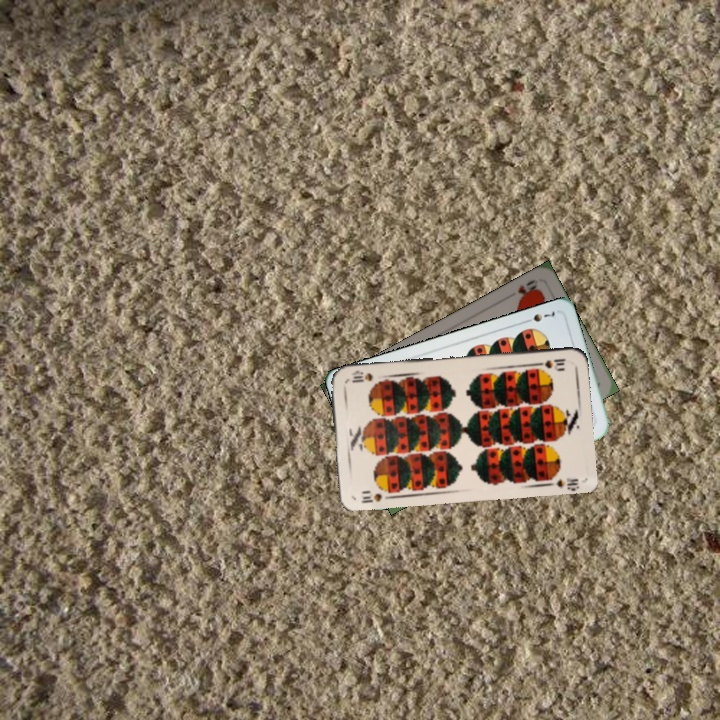HO: (514, 275, 541, 303)
S10: (532, 355, 568, 371), (357, 489, 384, 506)
S7: (520, 306, 558, 326)
